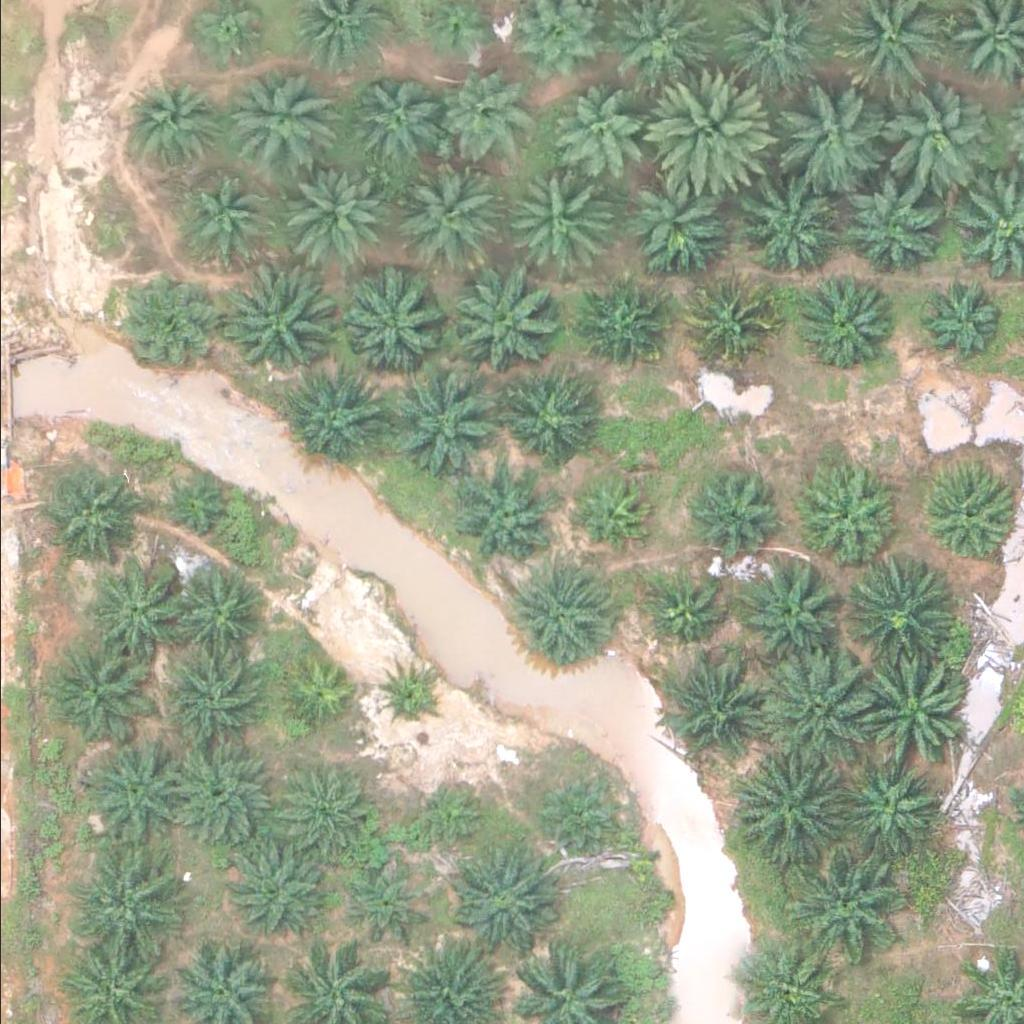Kelapa_Sawit: (644, 74, 770, 199), (732, 748, 846, 861), (778, 76, 892, 189), (442, 839, 555, 952), (164, 737, 277, 850), (76, 734, 189, 847), (37, 636, 150, 749), (391, 365, 504, 478), (447, 266, 560, 379), (336, 270, 449, 383), (837, 555, 950, 668), (873, 83, 986, 196), (66, 842, 180, 954), (791, 848, 904, 960), (758, 656, 871, 768), (224, 269, 337, 381), (854, 655, 967, 767), (740, 556, 841, 656), (220, 839, 321, 939), (154, 647, 255, 747), (163, 562, 264, 662), (282, 364, 383, 464), (37, 464, 138, 564), (798, 276, 899, 376), (109, 272, 210, 372), (739, 183, 840, 283), (502, 169, 603, 269), (390, 164, 491, 264), (282, 160, 383, 260), (839, 755, 940, 855), (666, 654, 766, 754), (506, 564, 606, 664), (273, 762, 373, 862), (84, 557, 184, 657), (798, 467, 898, 567), (453, 470, 553, 570), (833, 178, 933, 278), (633, 168, 733, 268), (231, 71, 331, 171), (913, 465, 1013, 565), (339, 862, 427, 950), (531, 767, 619, 855), (693, 464, 781, 552), (498, 375, 586, 463), (687, 275, 775, 363), (435, 68, 523, 156), (918, 274, 1006, 362), (347, 71, 436, 158), (579, 278, 667, 365), (177, 178, 265, 265), (128, 80, 216, 167), (555, 86, 643, 173), (574, 476, 650, 551), (649, 571, 724, 646), (413, 779, 488, 854), (275, 655, 350, 730), (151, 470, 226, 545), (374, 664, 437, 727)
